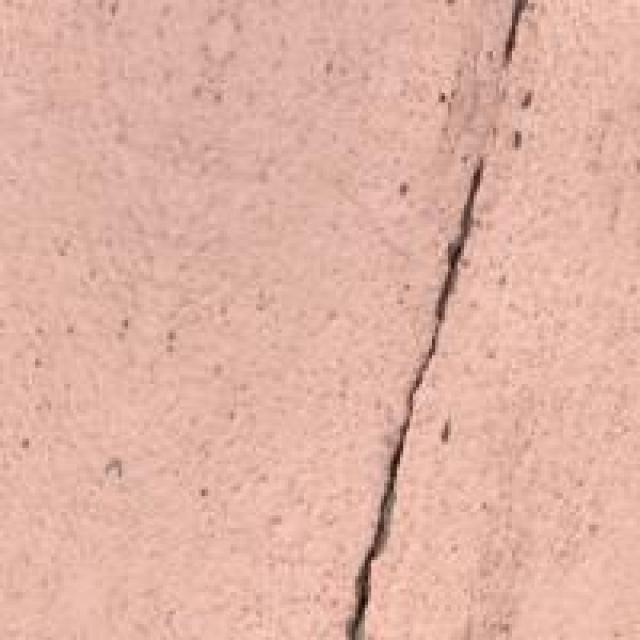Crack: (336, 0, 528, 637)
